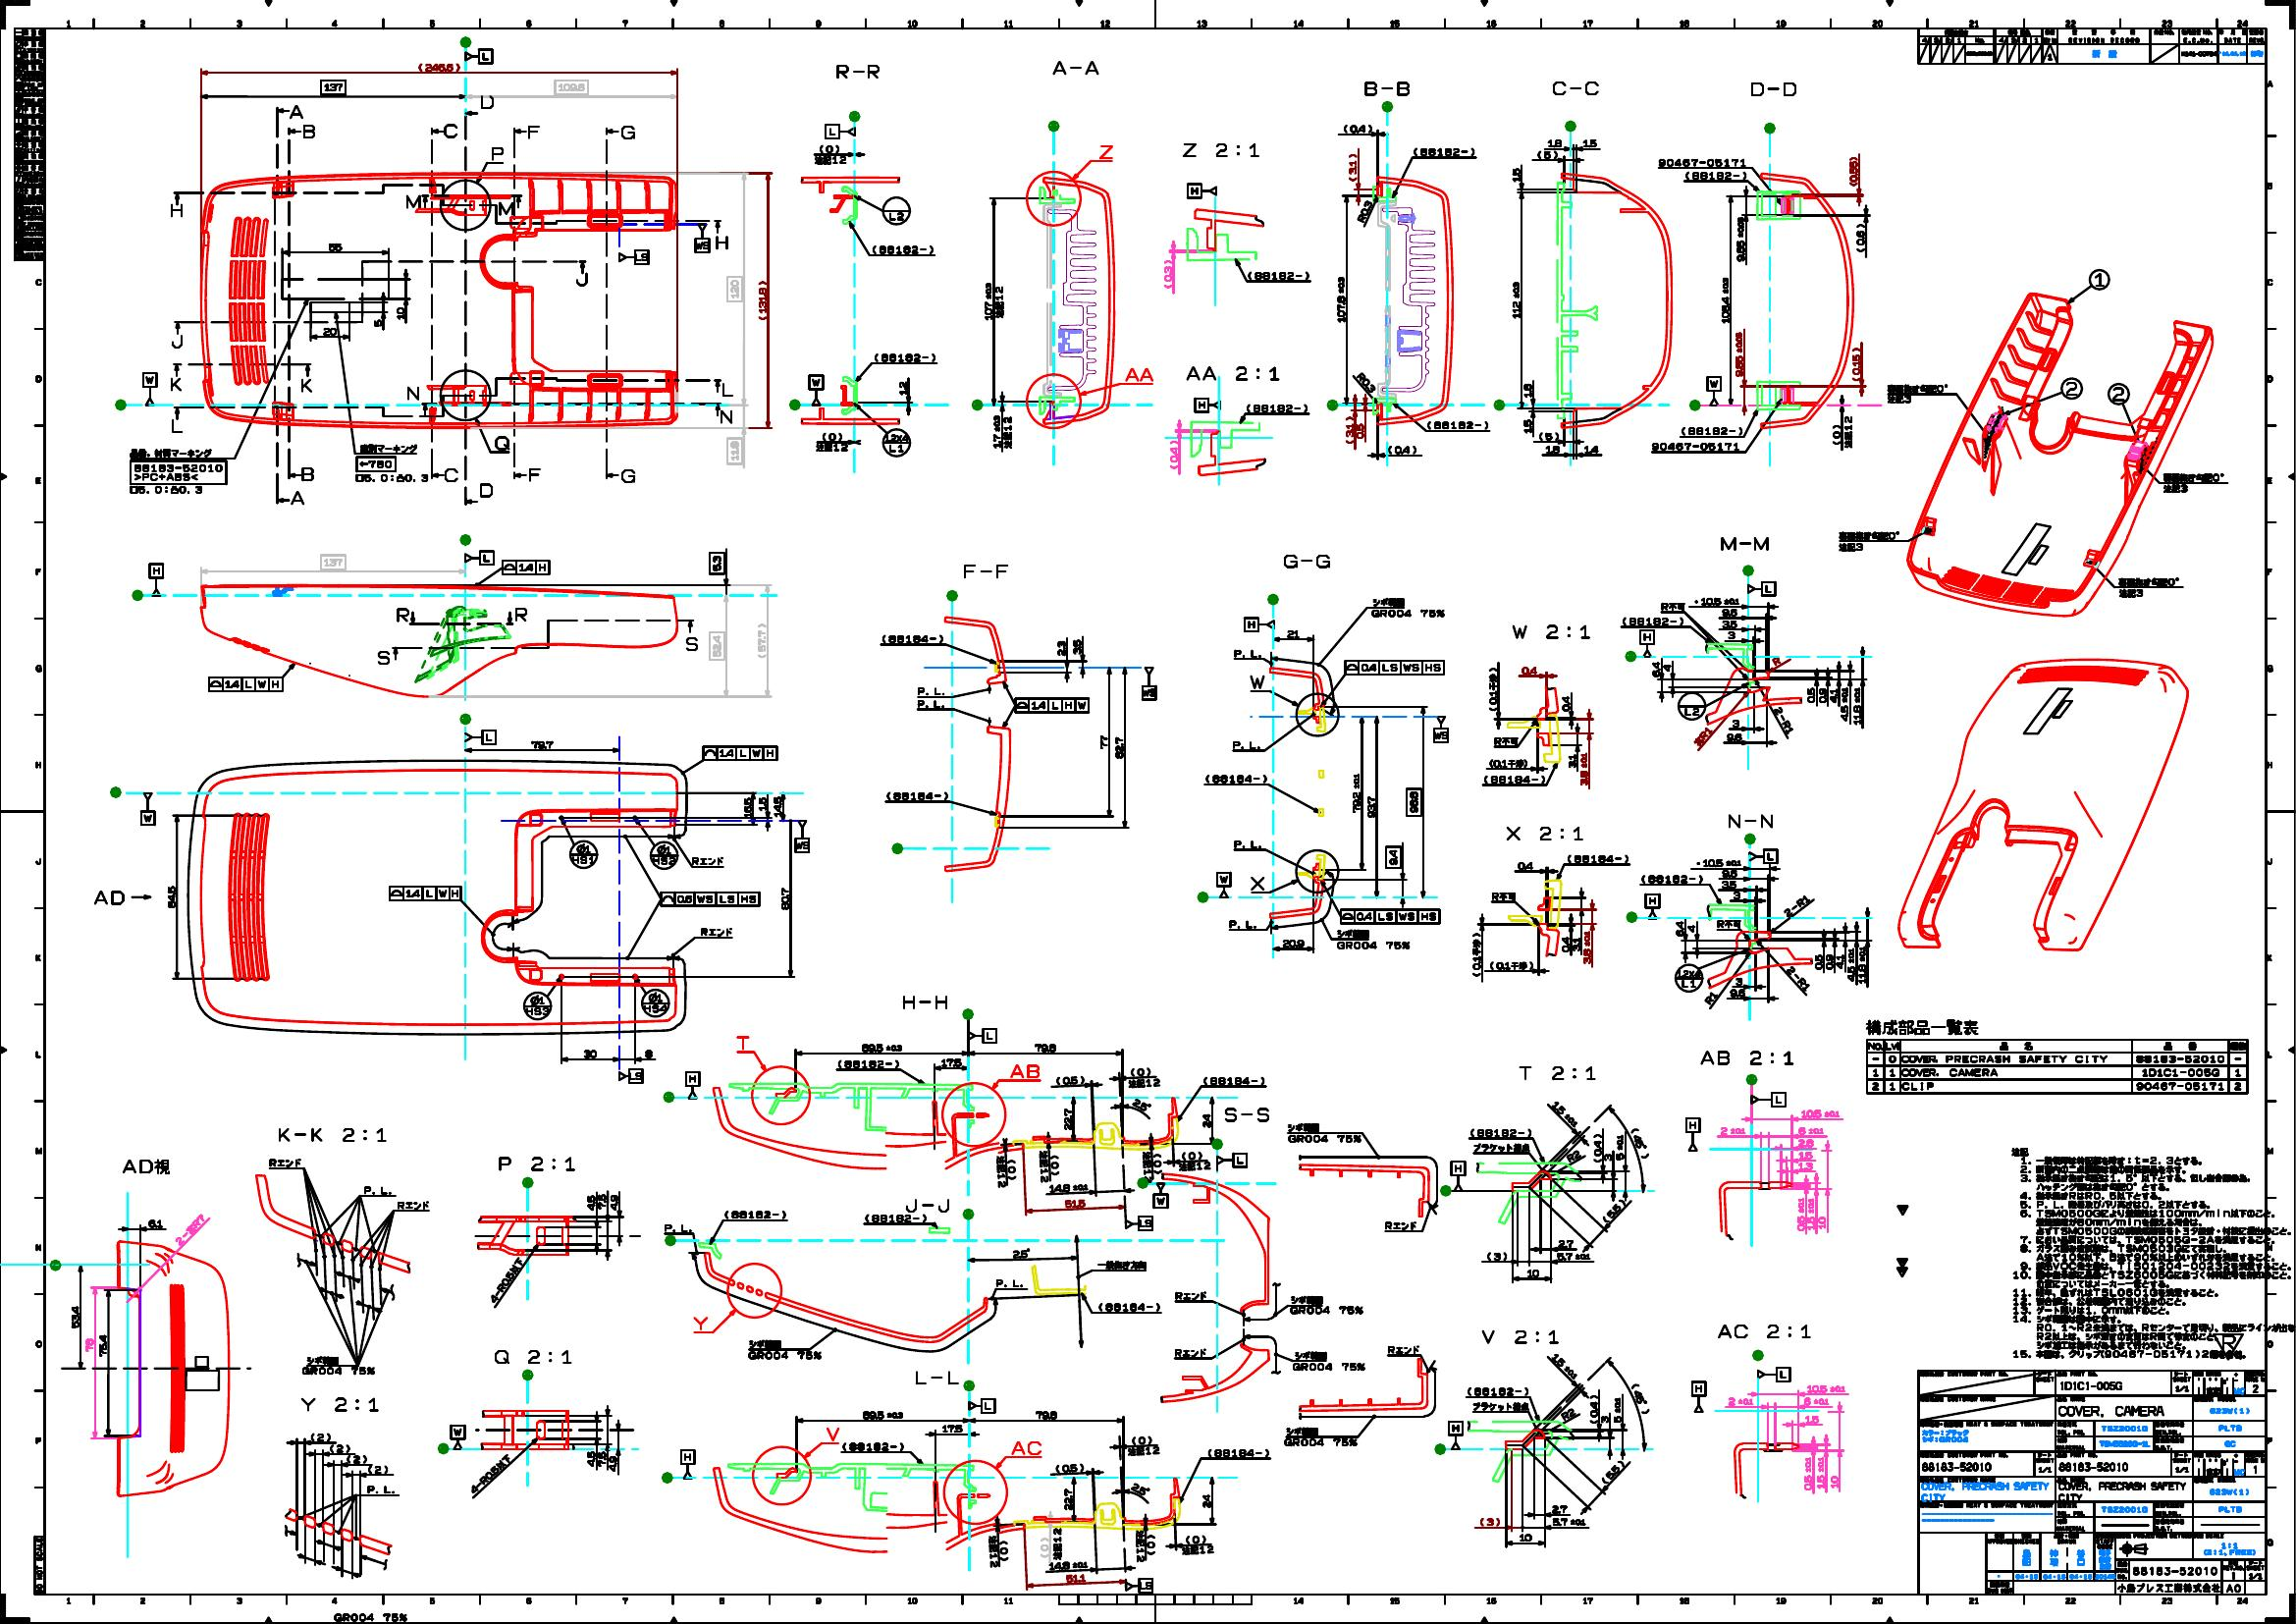anntotation_text: (2008, 1144, 2296, 1360), (1862, 1014, 2249, 1093), (126, 446, 227, 494), (355, 443, 429, 483), (276, 1127, 390, 1144), (1715, 1322, 1813, 1339), (1335, 928, 1411, 951), (1184, 364, 1281, 381), (495, 1153, 574, 1174), (1699, 1049, 1794, 1067), (747, 1339, 824, 1360), (1370, 598, 1448, 619), (1342, 659, 1444, 675), (1509, 622, 1592, 642), (1286, 1123, 1361, 1144), (1282, 1425, 1358, 1446), (1479, 1327, 1560, 1346), (1340, 909, 1439, 924), (1289, 1295, 1363, 1316), (661, 891, 757, 907), (1518, 1063, 1597, 1083), (1291, 1352, 1367, 1371), (490, 1348, 573, 1366), (300, 1396, 383, 1413), (302, 1355, 374, 1374), (2161, 473, 2226, 494), (2117, 576, 2180, 598), (1838, 531, 1899, 552), (1182, 141, 1260, 156), (1885, 383, 1948, 402), (1505, 824, 1583, 840), (703, 745, 778, 761), (1014, 698, 1089, 714), (207, 677, 281, 692), (388, 884, 462, 900), (1281, 550, 1333, 571), (1718, 533, 1771, 554), (1657, 155, 1746, 167), (1650, 439, 1739, 452), (1361, 79, 1412, 98), (880, 195, 912, 225), (880, 429, 913, 457), (959, 562, 1012, 580), (1224, 1106, 1272, 1125), (648, 840, 680, 868), (1679, 424, 1743, 438), (567, 840, 599, 868), (522, 991, 553, 1019), (864, 1211, 926, 1225), (121, 1158, 170, 1176), (833, 63, 882, 81), (1549, 79, 1599, 97), (899, 993, 949, 1011), (330, 1610, 411, 1620), (32, 1534, 46, 1594), (1676, 691, 1706, 719), (639, 990, 669, 1018), (1674, 963, 1702, 993), (722, 1207, 789, 1220), (1748, 81, 1799, 97), (1725, 812, 1776, 828), (913, 1369, 959, 1387), (1207, 1446, 1270, 1459), (1205, 772, 1268, 784), (1202, 1074, 1265, 1086), (871, 243, 935, 255), (1245, 401, 1309, 413), (1426, 418, 1490, 431), (1639, 872, 1702, 884), (501, 559, 548, 575), (2103, 381, 2131, 408), (1049, 60, 1100, 74), (462, 1468, 520, 1480), (2085, 267, 2112, 294), (840, 1441, 905, 1452), (1481, 773, 1546, 784), (880, 633, 945, 643), (1683, 169, 1748, 179), (1098, 1301, 1161, 1311), (885, 791, 949, 801), (903, 1197, 950, 1211), (873, 352, 936, 362), (1412, 146, 1476, 156), (1621, 615, 1685, 626), (836, 1058, 899, 1069), (1565, 852, 1628, 863), (1469, 1127, 1532, 1137), (1465, 1385, 1528, 1396), (2059, 374, 2083, 401), (1007, 1062, 1040, 1081), (478, 1276, 536, 1287), (1472, 1142, 1530, 1153), (1472, 1401, 1530, 1411), (1750, 1091, 1787, 1107), (1216, 1151, 1247, 1169), (1123, 366, 1154, 383), (1247, 271, 1310, 279), (1096, 1260, 1147, 1271), (148, 562, 163, 596), (93, 889, 126, 905), (1008, 1439, 1042, 1455), (1140, 666, 1156, 700), (1685, 1118, 1700, 1151), (1757, 1366, 1790, 1381), (464, 548, 494, 566), (618, 248, 648, 265), (694, 223, 711, 253), (464, 729, 495, 745), (808, 374, 824, 406), (824, 123, 856, 139), (141, 371, 155, 406), (1188, 181, 1216, 199), (1488, 960, 1534, 970), (1488, 666, 1498, 712), (1244, 617, 1274, 633), (464, 47, 494, 63), (968, 1026, 998, 1042), (1448, 1420, 1463, 1450), (141, 793, 155, 826), (794, 819, 808, 852), (448, 1424, 466, 1450), (1216, 872, 1233, 898), (987, 1533, 1000, 1570), (1432, 715, 1448, 743), (1706, 376, 1722, 404), (1639, 629, 1655, 657), (683, 1070, 699, 1098), (1451, 1160, 1465, 1192), (1692, 1380, 1706, 1411), (1126, 1577, 1151, 1594), (267, 1156, 302, 1169), (1488, 758, 1528, 768), (680, 1448, 694, 1478), (1748, 849, 1778, 863), (1472, 932, 1481, 979), (1051, 1527, 1063, 1561), (1133, 1529, 1145, 1562), (815, 441, 848, 453), (813, 153, 847, 165), (993, 285, 1005, 318), (1001, 415, 1014, 448), (441, 466, 460, 487), (1096, 141, 1116, 162), (1124, 1216, 1152, 1230), (1748, 582, 1776, 596), (993, 1276, 1024, 1288), (1226, 917, 1258, 930), (1151, 1183, 1166, 1207), (1142, 1151, 1154, 1183), (1644, 893, 1660, 917), (574, 271, 594, 290), (717, 408, 736, 427), (689, 856, 724, 866), (970, 1399, 996, 1413), (1180, 1545, 1216, 1555), (620, 123, 638, 144), (169, 199, 186, 220), (1126, 1077, 1161, 1088), (996, 1153, 1007, 1188), (1386, 1345, 1421, 1355), (618, 1067, 641, 1083), (395, 1199, 429, 1209), (1179, 1160, 1212, 1171), (1383, 1220, 1416, 1230), (1843, 415, 1853, 448), (1038, 1149, 1049, 1183), (699, 926, 733, 937), (1193, 397, 1217, 411), (1715, 917, 1743, 930), (513, 605, 531, 624), (393, 605, 411, 624), (690, 1315, 710, 1332), (683, 633, 701, 652), (478, 93, 495, 112), (443, 120, 460, 139), (488, 142, 506, 162), (713, 232, 731, 251), (717, 381, 736, 399), (523, 466, 541, 485), (299, 464, 316, 483), (169, 417, 186, 436), (169, 332, 186, 352), (297, 378, 314, 397), (406, 192, 422, 213), (362, 1185, 392, 1195), (365, 1483, 395, 1494), (915, 685, 945, 696), (1126, 1446, 1161, 1455), (300, 123, 318, 141), (286, 102, 304, 120), (478, 482, 495, 499), (288, 489, 306, 506), (169, 374, 186, 392), (404, 383, 422, 401), (497, 202, 515, 220), (1173, 1346, 1209, 1355), (374, 647, 390, 666), (523, 123, 539, 142), (620, 468, 636, 487), (494, 431, 509, 450), (1233, 649, 1261, 659), (917, 698, 945, 708), (1173, 1290, 1207, 1299), (1490, 889, 1516, 900), (1249, 875, 1267, 891), (1231, 740, 1263, 749), (662, 1223, 692, 1232), (1660, 601, 1685, 612), (824, 1425, 840, 1441), (1233, 840, 1261, 849), (736, 1033, 750, 1051), (1249, 675, 1265, 689), (1493, 735, 1518, 743)
dimension_text: (169, 1222, 214, 1234), (553, 79, 588, 95), (1335, 274, 1346, 323), (1720, 276, 1730, 323), (1509, 279, 1521, 320), (1405, 789, 1423, 817), (1693, 596, 1739, 606), (1546, 1107, 1585, 1120), (861, 1408, 905, 1418), (320, 554, 346, 571), (861, 1042, 903, 1053), (708, 631, 724, 659), (1801, 1107, 1841, 1118), (727, 438, 743, 464), (1695, 858, 1743, 866), (320, 79, 346, 95), (1634, 1127, 1646, 1160), (982, 281, 993, 320), (1734, 332, 1743, 378), (1736, 216, 1744, 262), (1384, 845, 1402, 868), (1546, 1360, 1583, 1371), (1634, 1383, 1646, 1415), (416, 62, 460, 70), (1795, 1197, 1806, 1232), (1047, 1183, 1089, 1192), (1850, 346, 1860, 381), (757, 279, 766, 322), (1551, 1517, 1586, 1527), (1802, 1455, 1813, 1490), (755, 622, 766, 657), (1049, 1561, 1089, 1570), (1852, 685, 1860, 726), (1351, 772, 1360, 812), (991, 415, 1001, 448), (1781, 972, 1815, 982), (1597, 1466, 1630, 1476), (1765, 715, 1799, 726), (727, 276, 741, 301), (1808, 1383, 1846, 1392), (1599, 1204, 1630, 1214), (708, 552, 724, 573), (1555, 1251, 1592, 1260), (1583, 928, 1592, 965), (1855, 223, 1866, 253), (1054, 1462, 1084, 1473), (1846, 947, 1855, 982), (1579, 750, 1588, 786), (1010, 1246, 1031, 1260), (1592, 1134, 1602, 1162), (1806, 1197, 1815, 1230), (942, 1422, 964, 1434), (1061, 1106, 1072, 1132), (1848, 156, 1857, 188), (1353, 376, 1379, 387), (1781, 900, 1813, 909), (1063, 1485, 1073, 1512), (1614, 1134, 1625, 1160), (1802, 1396, 1829, 1406), (1859, 946, 1866, 984), (1342, 123, 1372, 132), (1346, 415, 1354, 445), (1388, 445, 1418, 453), (1170, 439, 1179, 469), (1163, 258, 1172, 288), (1590, 1394, 1599, 1424), (1613, 1394, 1621, 1424), (97, 1332, 107, 1357), (1727, 1396, 1751, 1406), (1797, 1125, 1825, 1134), (1718, 1125, 1746, 1134), (1056, 1076, 1084, 1084), (1347, 153, 1356, 181), (1049, 1153, 1059, 1176), (1033, 1042, 1056, 1053), (1535, 149, 1558, 160), (820, 431, 843, 441), (1035, 1410, 1058, 1420), (1130, 1434, 1152, 1445), (1184, 1534, 1207, 1545), (1038, 1536, 1049, 1559), (1484, 1250, 1507, 1260), (1365, 794, 1375, 817), (1114, 736, 1124, 759), (1816, 1455, 1823, 1489), (1841, 687, 1848, 721), (1351, 207, 1377, 216), (367, 1464, 388, 1475), (1007, 1158, 1017, 1179), (1152, 1153, 1163, 1174), (819, 142, 840, 153), (771, 796, 782, 817), (1065, 1573, 1086, 1584), (70, 1304, 79, 1329), (167, 884, 176, 909), (780, 886, 789, 910), (1200, 1492, 1212, 1510), (1690, 733, 1715, 742), (1281, 939, 1305, 947), (1131, 1098, 1151, 1109), (1813, 953, 1823, 972), (1130, 1483, 1149, 1494), (1063, 1199, 1086, 1207), (1180, 1151, 1203, 1160), (1130, 1067, 1152, 1076), (1832, 424, 1841, 446), (531, 740, 553, 749), (940, 1058, 963, 1067), (1147, 1534, 1156, 1557), (1000, 1540, 1008, 1562), (146, 1218, 163, 1229), (309, 1432, 330, 1441), (329, 1443, 350, 1452), (346, 1454, 367, 1462), (1797, 1137, 1815, 1148), (1537, 431, 1558, 439), (898, 380, 908, 397), (1729, 988, 1746, 998), (1479, 1517, 1500, 1526), (1563, 1151, 1581, 1162), (327, 243, 344, 253), (1674, 919, 1683, 939), (1700, 993, 1720, 1002), (84, 1336, 95, 1352), (1799, 1149, 1815, 1160), (1202, 1113, 1212, 1128), (1722, 879, 1737, 889), (581, 1048, 597, 1058), (1551, 1503, 1567, 1513), (1558, 1237, 1574, 1248), (1650, 661, 1660, 677), (1560, 696, 1570, 712), (587, 1193, 596, 1211), (1523, 417, 1532, 434), (1356, 422, 1365, 439), (587, 1450, 596, 1468), (1720, 868, 1737, 877), (1725, 733, 1743, 742), (1806, 687, 1815, 705), (1818, 685, 1827, 703), (1520, 664, 1537, 673), (1516, 859, 1534, 868), (1560, 935, 1569, 953), (1572, 935, 1581, 953), (1072, 638, 1080, 656), (1518, 1533, 1532, 1543), (1525, 1267, 1539, 1278), (597, 1193, 606, 1209), (1583, 445, 1599, 453), (1544, 445, 1560, 453), (1523, 383, 1532, 399), (1513, 167, 1521, 183), (1548, 139, 1563, 148), (597, 1452, 606, 1468), (608, 1455, 617, 1471), (1560, 1410, 1576, 1418), (1722, 608, 1737, 617), (1284, 629, 1300, 638), (1567, 752, 1576, 768), (1056, 640, 1065, 656), (321, 327, 337, 336), (743, 798, 750, 817), (1799, 1162, 1813, 1171), (1581, 139, 1599, 146), (1825, 953, 1832, 970), (757, 796, 766, 810), (1830, 1475, 1839, 1489), (1804, 1413, 1818, 1422), (1722, 620, 1739, 627), (395, 306, 404, 320), (610, 1193, 617, 1209), (1836, 953, 1843, 968), (1602, 1151, 1613, 1162), (1773, 656, 1783, 666), (1830, 687, 1838, 703), (1100, 733, 1107, 749), (1816, 1216, 1825, 1229), (1600, 1413, 1609, 1425), (1734, 975, 1743, 986), (643, 1049, 653, 1058), (1727, 629, 1736, 640), (1662, 663, 1672, 671), (1732, 891, 1741, 900), (1686, 924, 1695, 933), (1730, 719, 1739, 726), (372, 320, 381, 327)
object: (184, 756, 689, 1040), (197, 169, 680, 429), (1901, 288, 2213, 617), (1895, 654, 2191, 951), (1161, 1151, 1439, 1418), (199, 580, 683, 696), (685, 1237, 1089, 1355), (710, 1459, 1188, 1554), (710, 1077, 1182, 1171), (1555, 170, 1674, 429), (114, 1239, 232, 1499), (1751, 170, 1855, 431), (798, 174, 903, 427), (1372, 172, 1456, 429), (1036, 174, 1116, 425), (1268, 656, 1339, 935), (942, 613, 1014, 874), (255, 1171, 411, 1274), (1706, 902, 1815, 988), (1702, 640, 1806, 724), (1716, 1132, 1794, 1239), (1465, 1420, 1578, 1482), (1474, 1160, 1583, 1223), (1730, 1399, 1799, 1497), (283, 1506, 392, 1554), (1189, 417, 1268, 478), (1184, 206, 1265, 264), (1507, 877, 1563, 958), (1505, 685, 1562, 765), (474, 1213, 569, 1257), (480, 1408, 573, 1452)
title_block: (1917, 1369, 2266, 1594), (1917, 28, 2266, 65), (12, 26, 46, 260)
